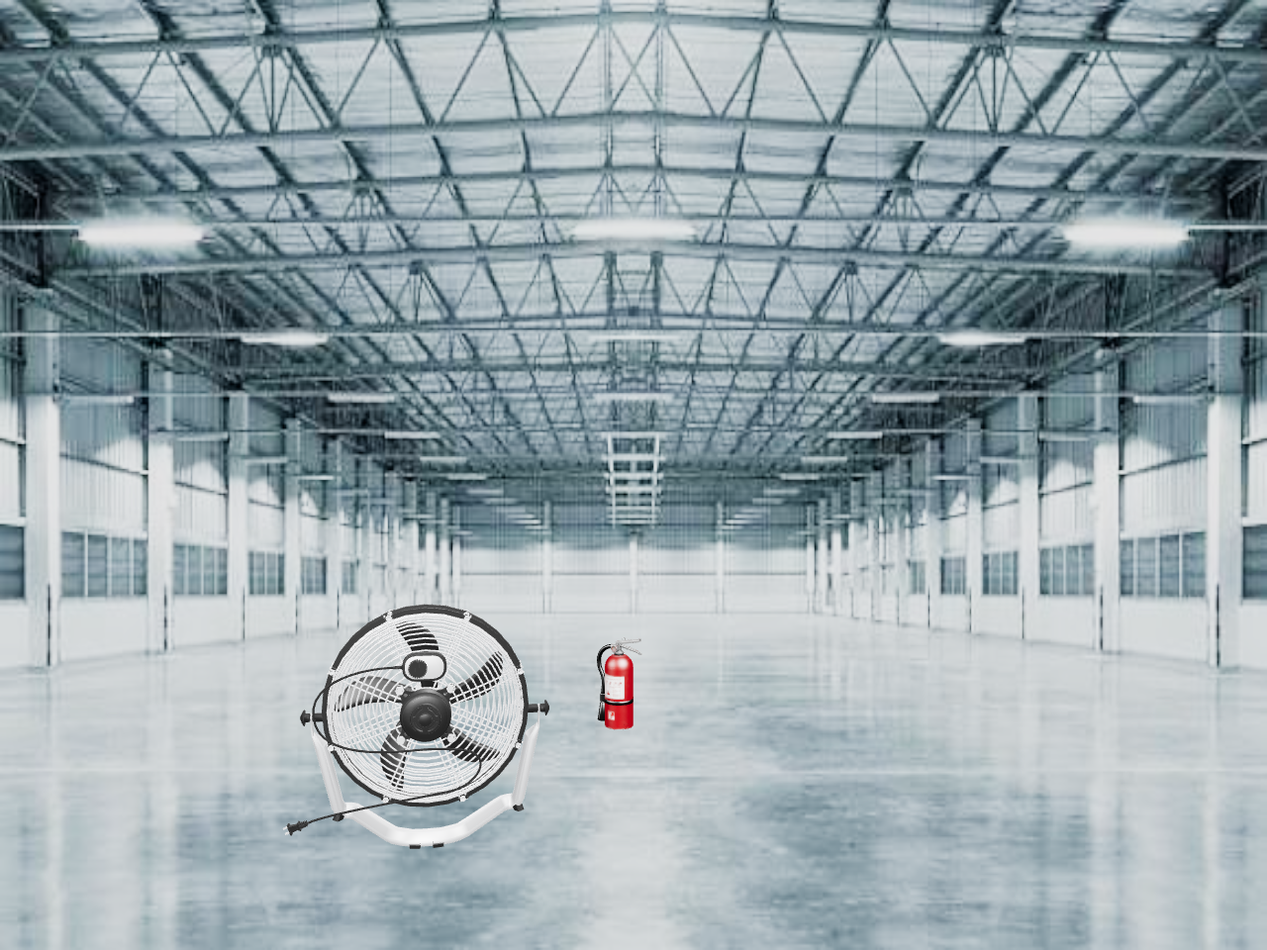FanSanati: (283, 604, 549, 849)
KapsoleAtashNeshani: (597, 637, 642, 730)
